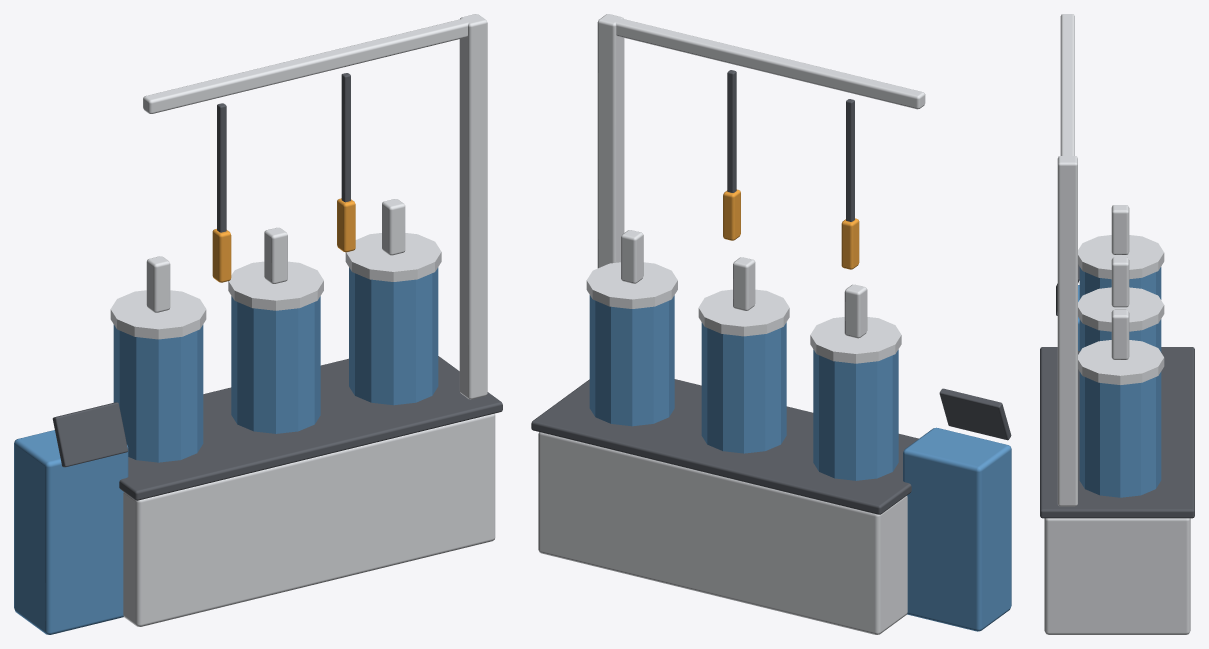
Rendered from sealer-station.glb.
The picture shows the model from 3 angles, left to right: view 1: azimuth 30°, elevation 25°; view 2: azimuth 150°, elevation 25°; view 3: azimuth 270°, elevation 25°; orthographic projection. The views are drawn at different scales.
Parts seen in each view (by area): view 1: sealer-station; view 2: sealer-station; view 3: sealer-station.
Boxes of the visible parts, x1,y1,x2,y2 form: sealer-station: [14, 14, 502, 634]; sealer-station: [531, 14, 1011, 634]; sealer-station: [1040, 14, 1194, 634].
Size of the model in its own units: 3.18 by 3.57 by 1.06.
